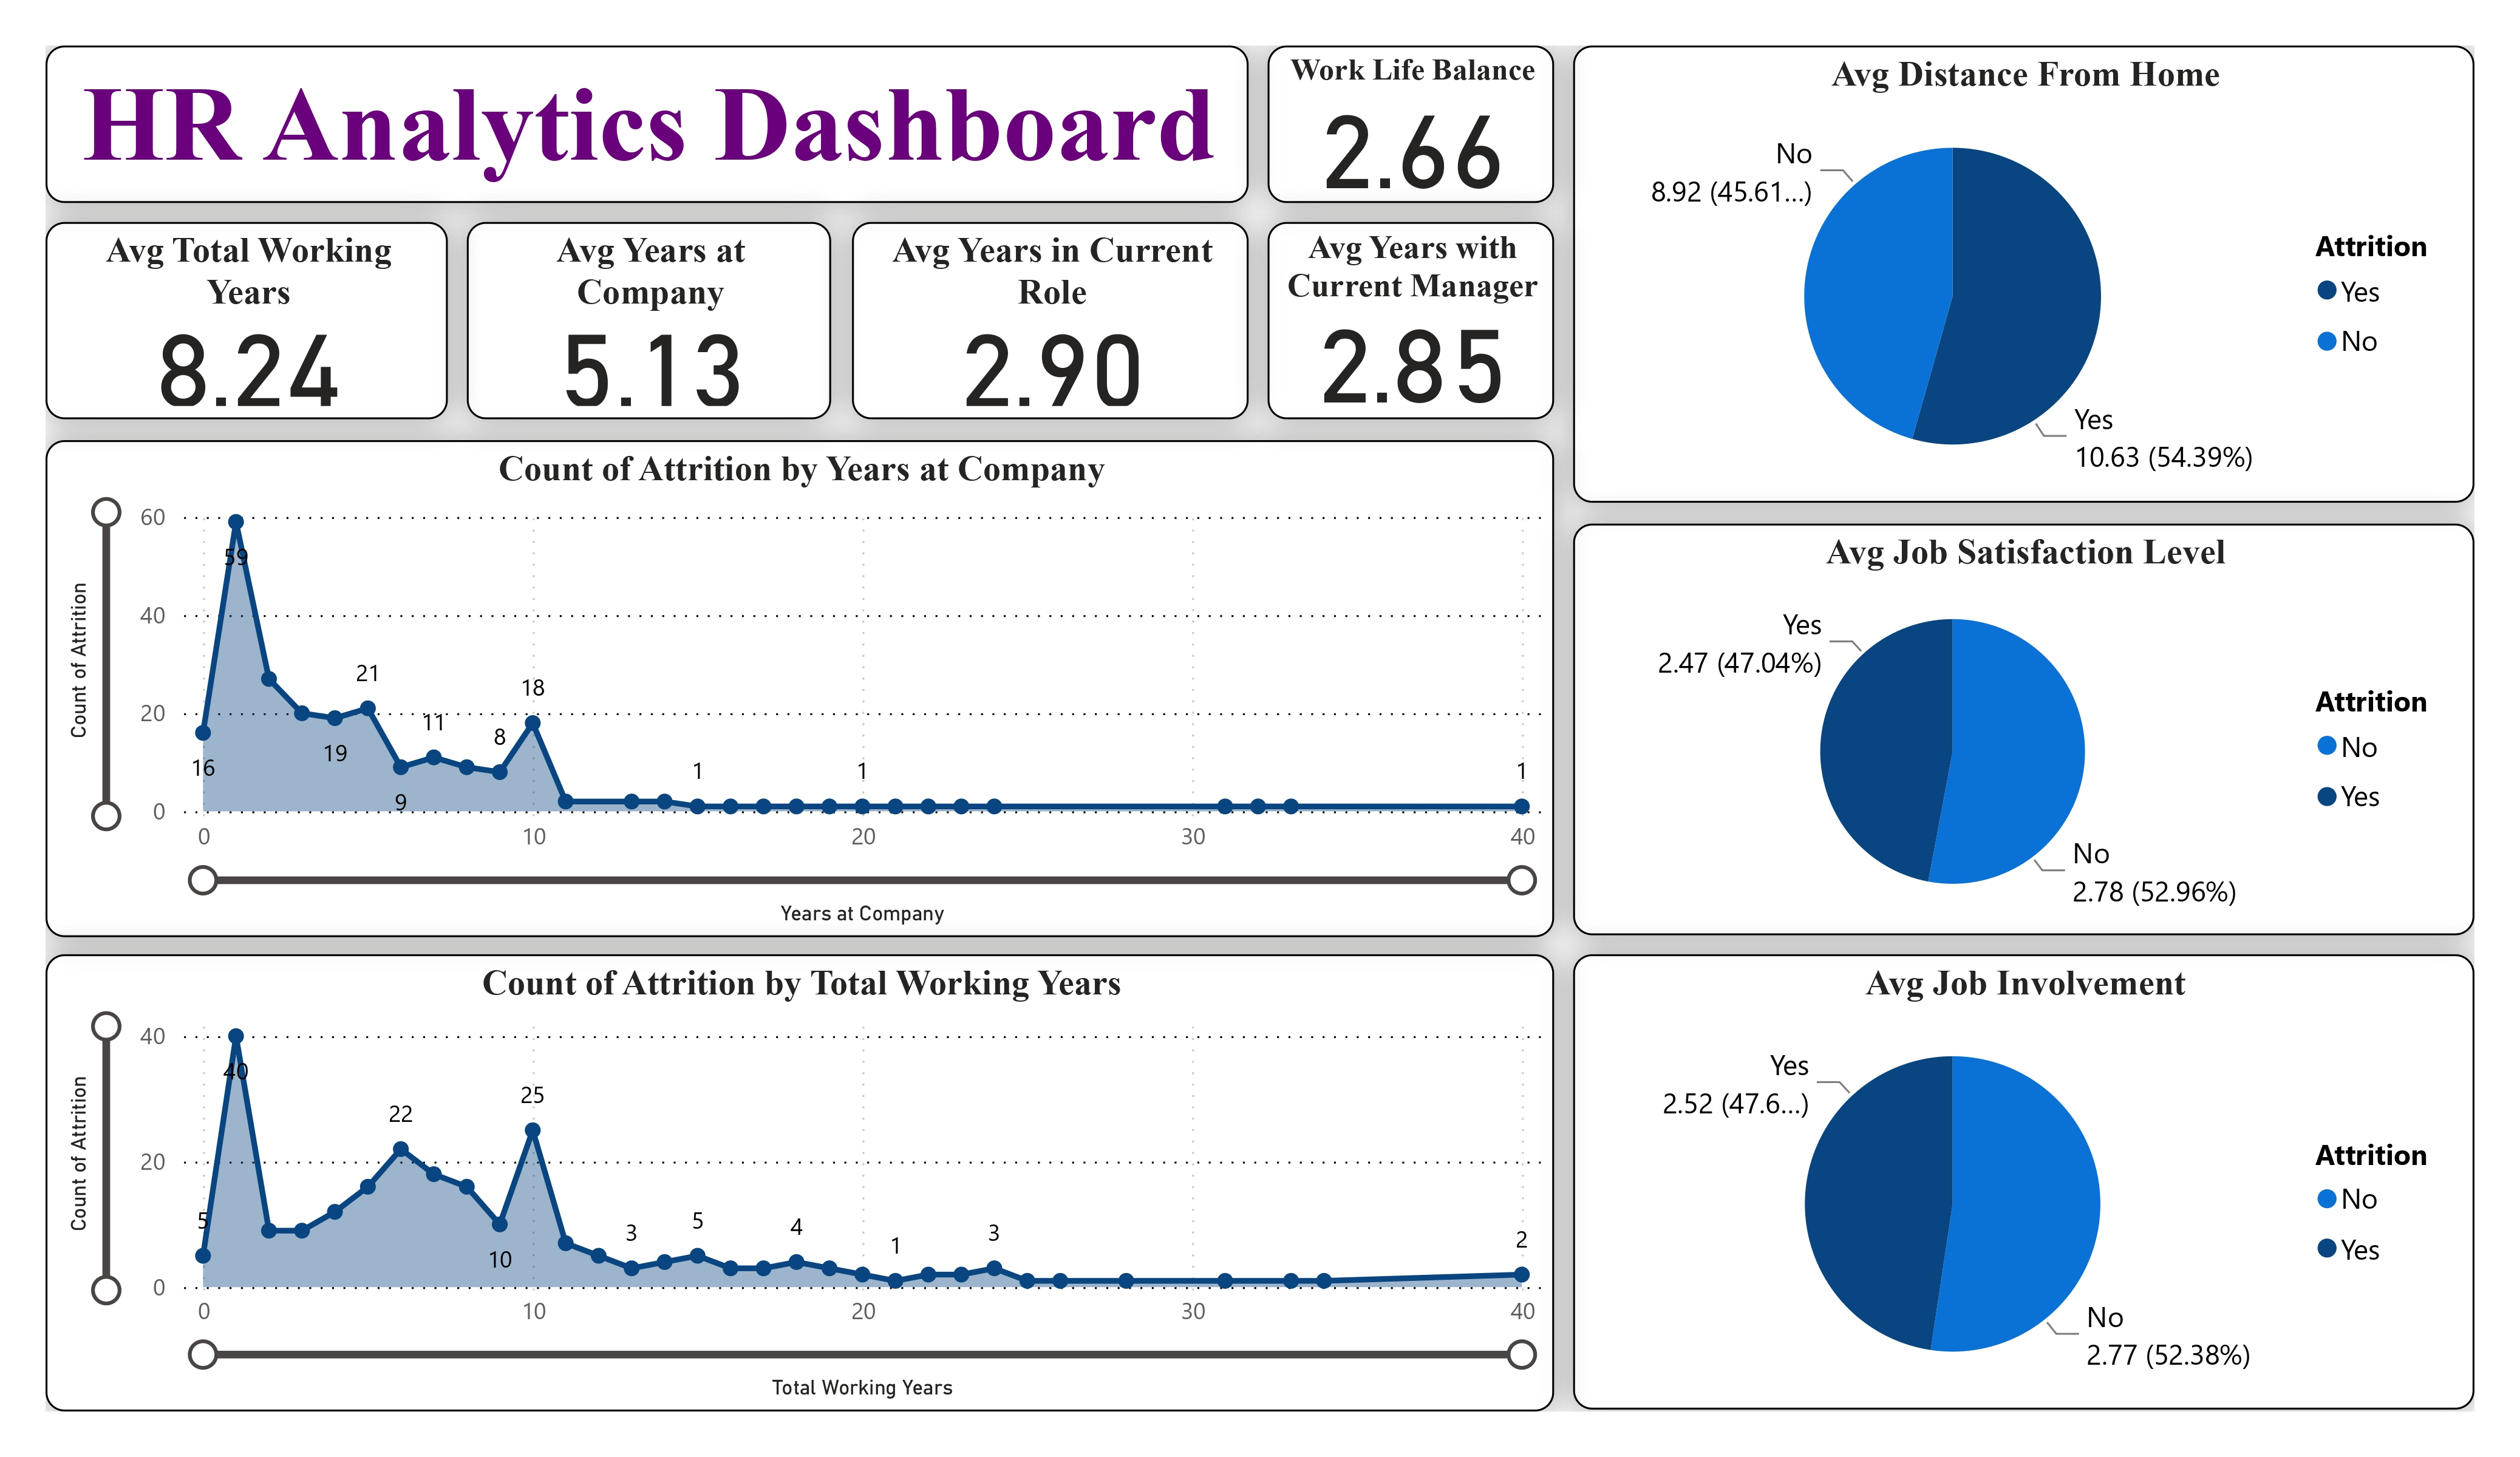

What the dashboard file says about the page in this screenshot:
{"tool":"powerbi","page":{"name":"Page-3","canvas":[1280,720],"ordinal":2},"visuals":[{"type":"pieChart","title":"Avg Distance From Home","fields":{"Y":["Avg(Dataset.Distance From Home)"],"Category":["Dataset.Attrition"]},"box":[804.9,0,475.5,240.8],"z":0},{"type":"pieChart","title":"Avg Job Satisfaction Level","fields":{"Category":["Dataset.Attrition"],"Y":["Avg(Dataset.Job Satisfaction Level)"]},"box":[804.9,251.7,475.5,217.5],"z":1000},{"type":"textbox","box":[0,0,633.7,82.6],"z":2000},{"type":"card","title":"Work Life Balance","fields":{"Values":["Avg(Dataset.Work Life Balance)"]},"box":[644,0,151,82.6],"z":3000},{"type":"pieChart","title":"Avg Job Involvement","fields":{"Category":["Dataset.Attrition"],"Y":["Avg(Dataset.Job Involvement)"]},"box":[804.9,478.6,475.5,240.8],"z":4000},{"type":"areaChart","fields":{"Y":["CountNonNull(Dataset.Attrition)"],"Category":["Dataset.Years at Company"]},"box":[0,207.8,795,262],"z":5000},{"type":"areaChart","fields":{"Y":["CountNonNull(Dataset.Attrition)"],"Category":["Dataset.Total Working Years"]},"box":[0,478.8,795,241.3],"z":6000},{"type":"card","title":"Avg Years at Company","fields":{"Values":["Avg(Dataset.Years at Company)"]},"box":[222,92.9,192.3,104.5],"z":7000},{"type":"card","title":"Avg Years in Current Role","fields":{"Values":["Avg(Dataset.Years in Current Role)"]},"box":[424.6,92.9,209.1,104.5],"z":8000},{"type":"card","title":"Avg Total Working Years","fields":{"Values":["Avg(Dataset.Total Working Years)"]},"box":[0,92.9,211.7,104.5],"z":9000},{"type":"card","title":"Avg Years with Current Manager","fields":{"Values":["Avg(Dataset.Years With Current Manager)"]},"box":[644,92.9,151,104.5],"z":10000}]}

Visuals, with their boxes in screenshot pixels (x1, y1, x2, y2):
"Avg Distance From Home" pieChart: (1573,46,2474,503)
"Avg Job Satisfaction Level" pieChart: (1573,523,2474,936)
textbox: (46,46,1248,202)
"Work Life Balance" card: (1268,46,1554,202)
"Avg Job Involvement" pieChart: (1573,954,2474,1410)
areaChart - CountNonNull(Dataset.Attrition) x Dataset.Years at Company: (46,440,1554,937)
areaChart - CountNonNull(Dataset.Attrition) x Dataset.Total Working Years: (46,954,1554,1411)
"Avg Years at Company" card: (467,222,832,420)
"Avg Years in Current Role" card: (851,222,1248,420)
"Avg Total Working Years" card: (46,222,448,420)
"Avg Years with Current Manager" card: (1268,222,1554,420)
